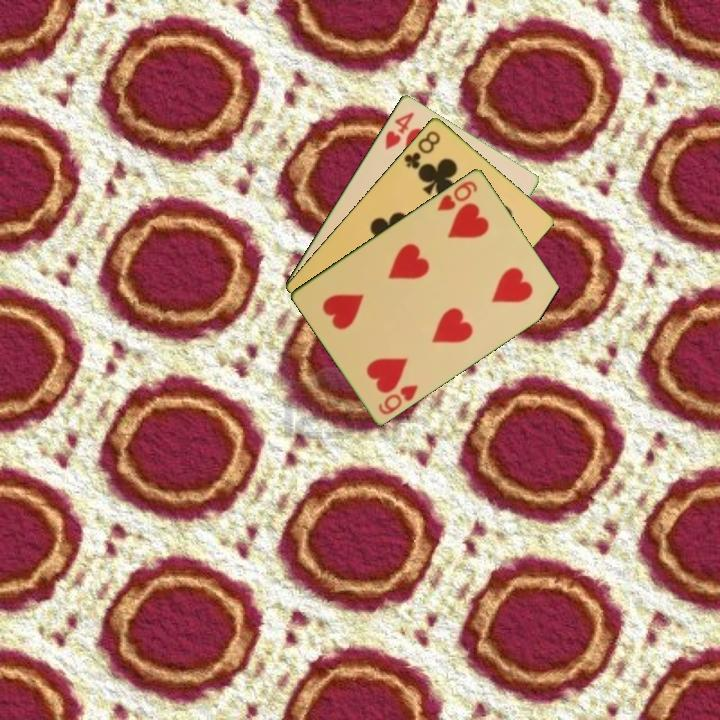4h: (381, 108, 417, 152)
6h: (433, 177, 480, 214), (375, 381, 421, 417)
8c: (400, 127, 443, 172)
